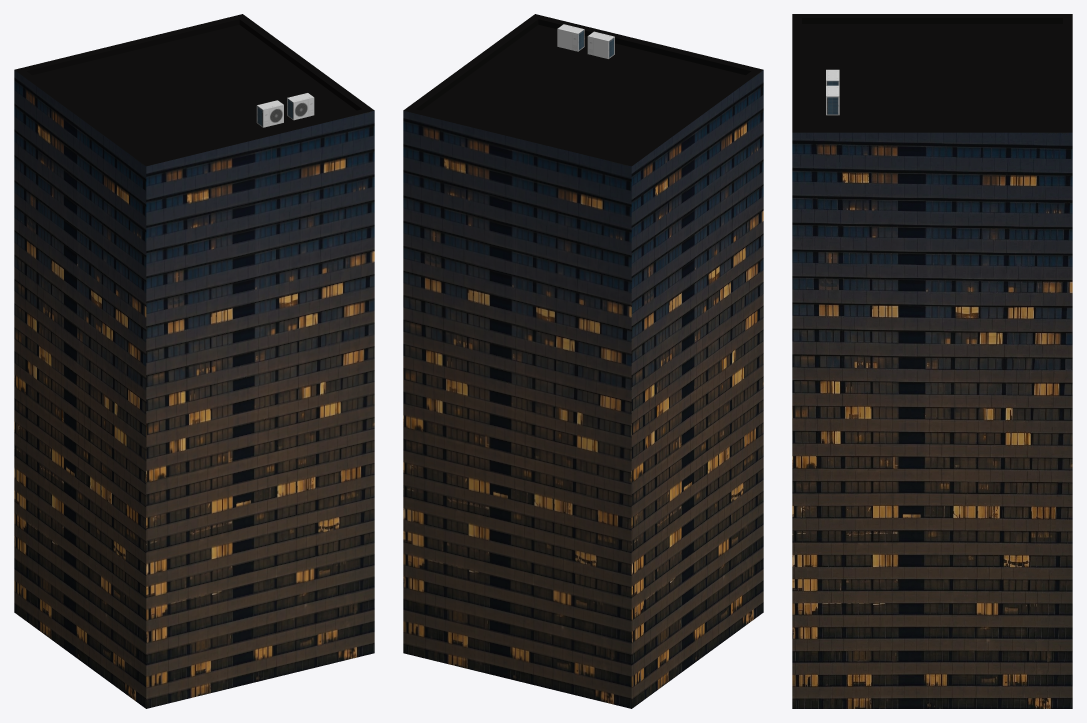
File: NightBuilding_v1_1.fbx
The picture shows the model from 3 angles, left to right: view 1: azimuth 30°, elevation 25°; view 2: azimuth 150°, elevation 25°; view 3: azimuth 270°, elevation 25°; orthographic projection. The views are drawn at different scales.
Visible parts, largest first — view 1: Building; view 2: Building; view 3: Building.
Part boxes in pixels (bbox=[...]): Building: bbox=[14, 14, 374, 708]; Building: bbox=[403, 14, 763, 708]; Building: bbox=[792, 14, 1072, 708].
Size of the model in its own units: 200 by 464 by 200.
3 materials, 2 textured.
